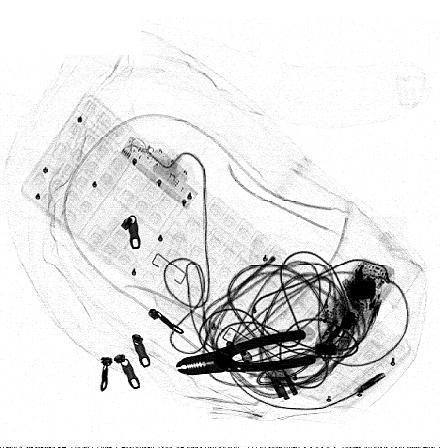Pliers: (176, 329, 315, 377)
